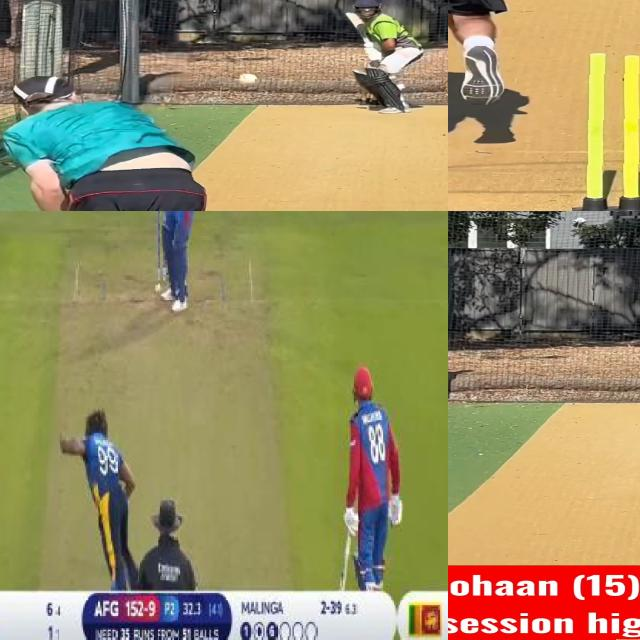Cricket ball: (237, 72, 262, 90), (153, 282, 164, 296)
Stumps: (572, 52, 640, 211)
